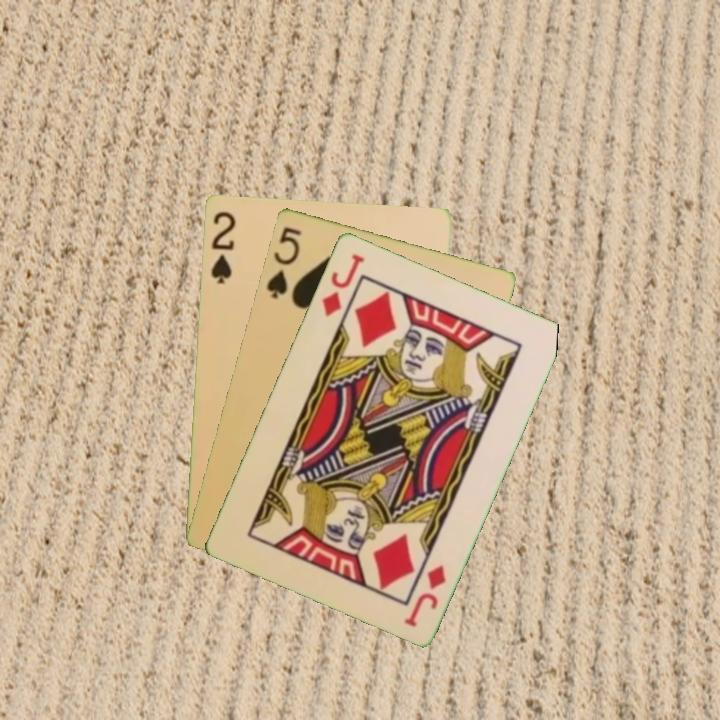2s: (207, 207, 238, 286)
5s: (263, 222, 305, 301)
Jd: (318, 249, 368, 319), (400, 561, 449, 630)
